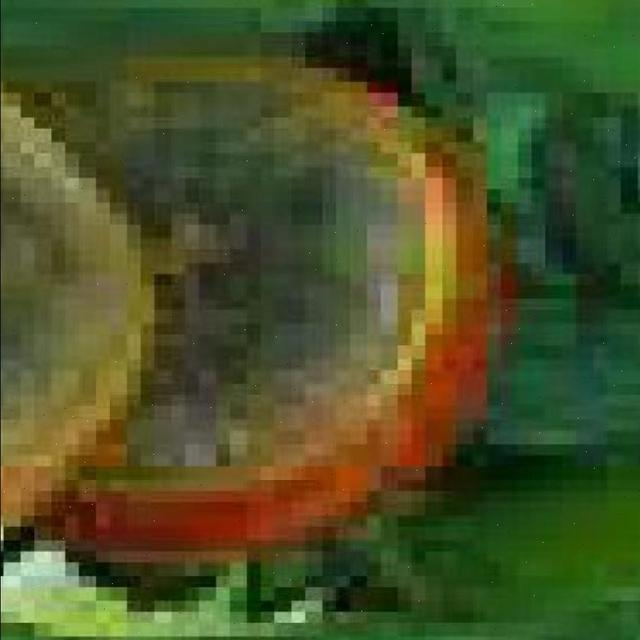Blossom End Rot Fruit: (42, 192, 272, 260)
